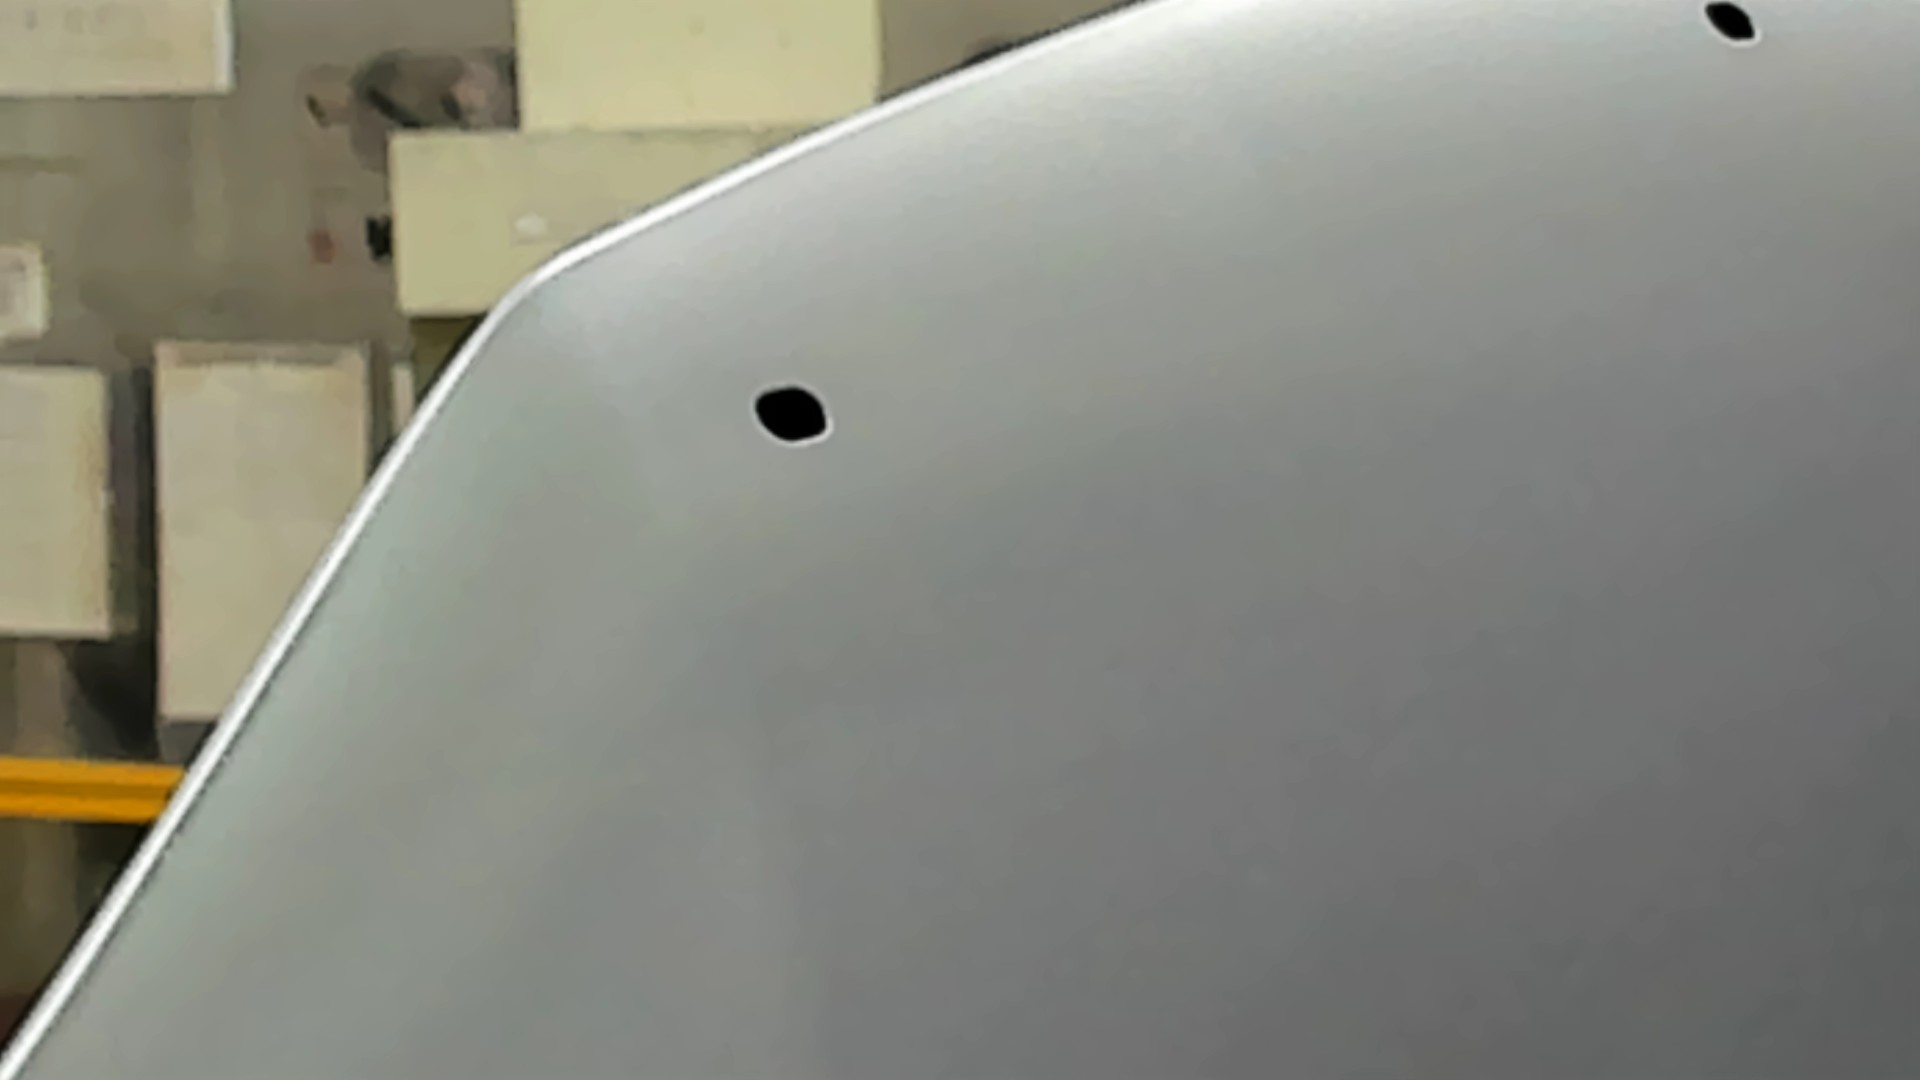amorfo: (754, 382, 832, 448), (1696, 1, 1774, 50)
capo: (916, 128, 1920, 1080)
